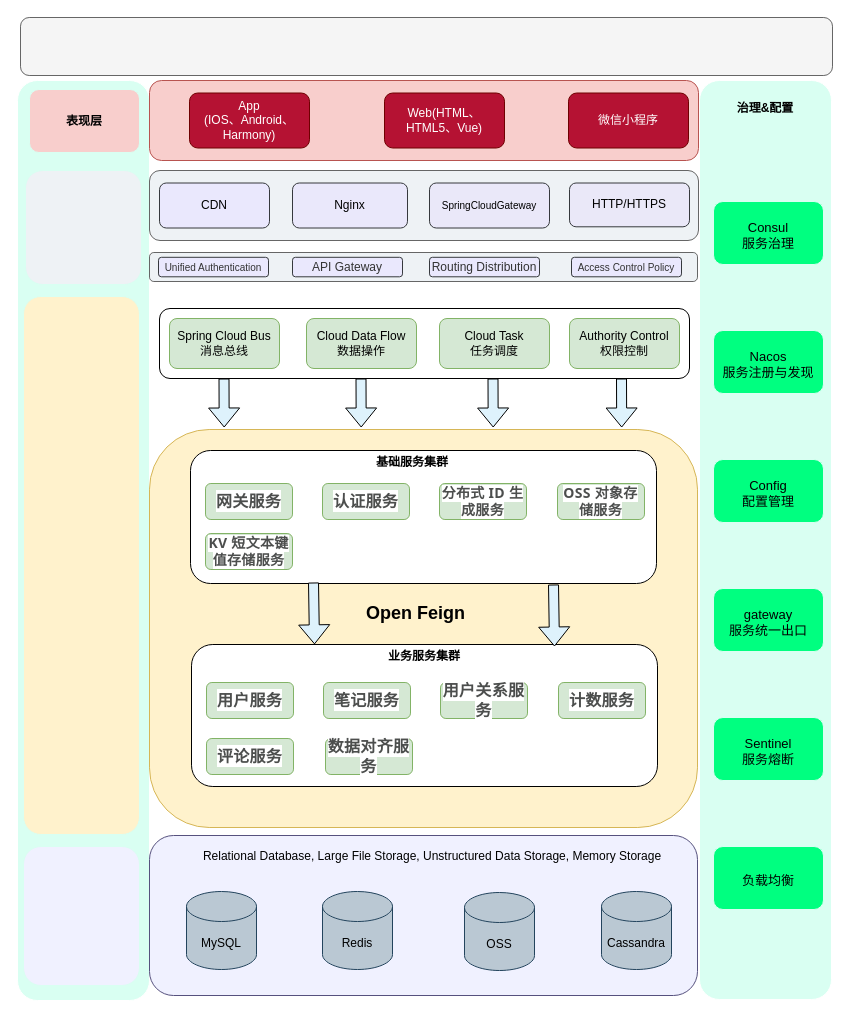
The diagram is 850 pixels wide and 1018 high, and some of its shapes have lost their labels. Each missing label, with the centre of its shape:
Momento系统逻辑架构: point 426,46
数据层: point 81,916
服务层: point 81,565
网络层: point 83,227
